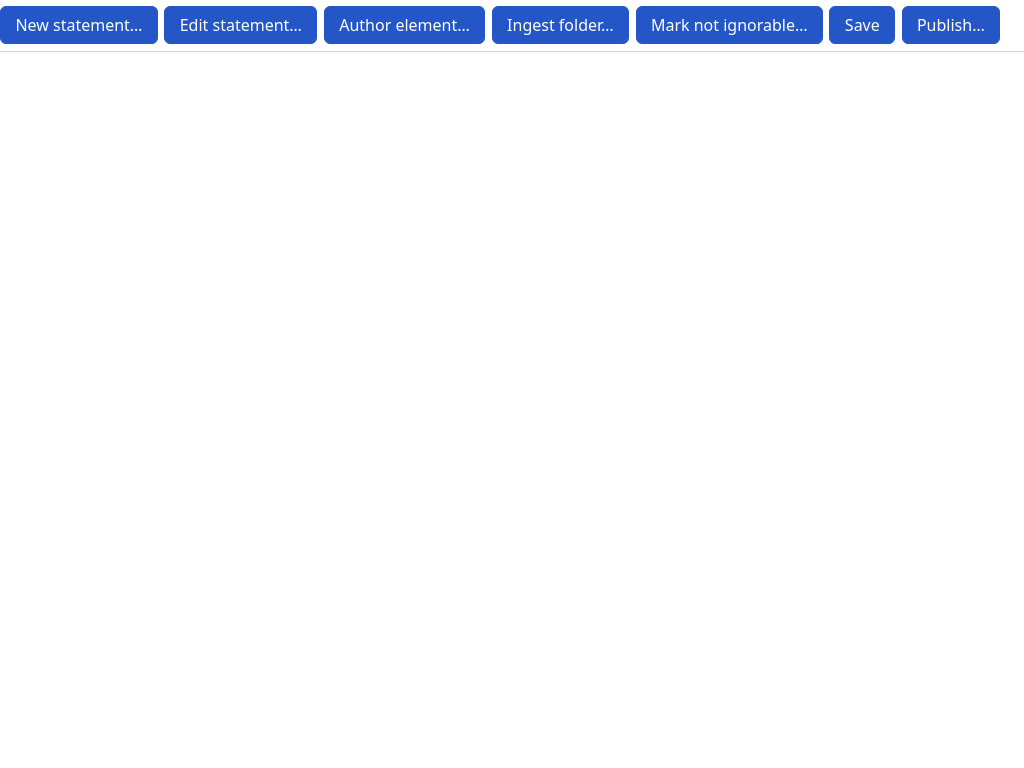
it: publish_dialog › warnings_on_deprecated_references_are_shown
Click the button "Publish…" at point(951, 25), box [902, 6, 1000, 44]
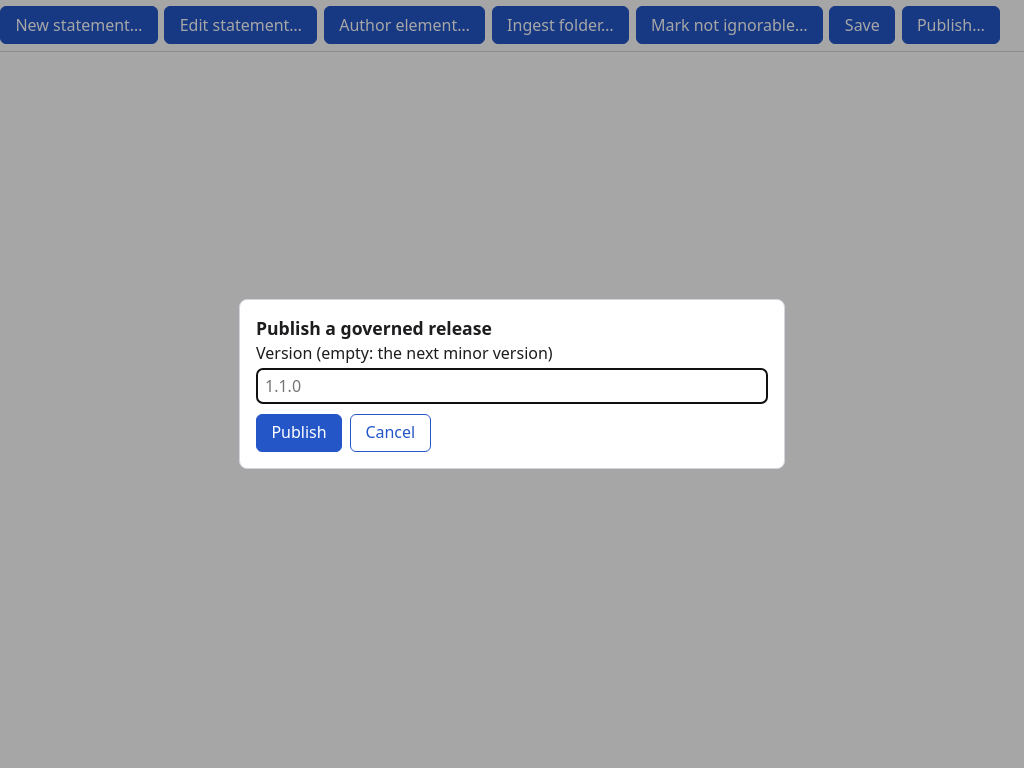
Click the button "Publish" at point(299, 433), box [256, 414, 342, 452]
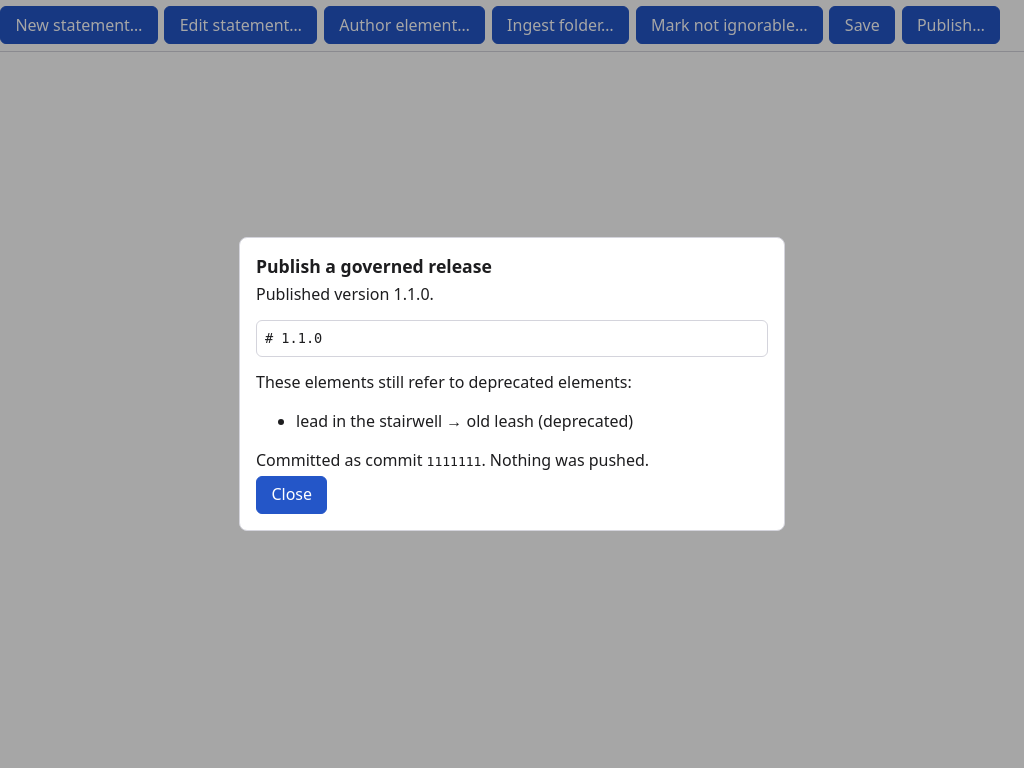
Expected: the list item "lead in the stairwell → old leash (deprecated)" is shown, [296, 410, 633, 432]
